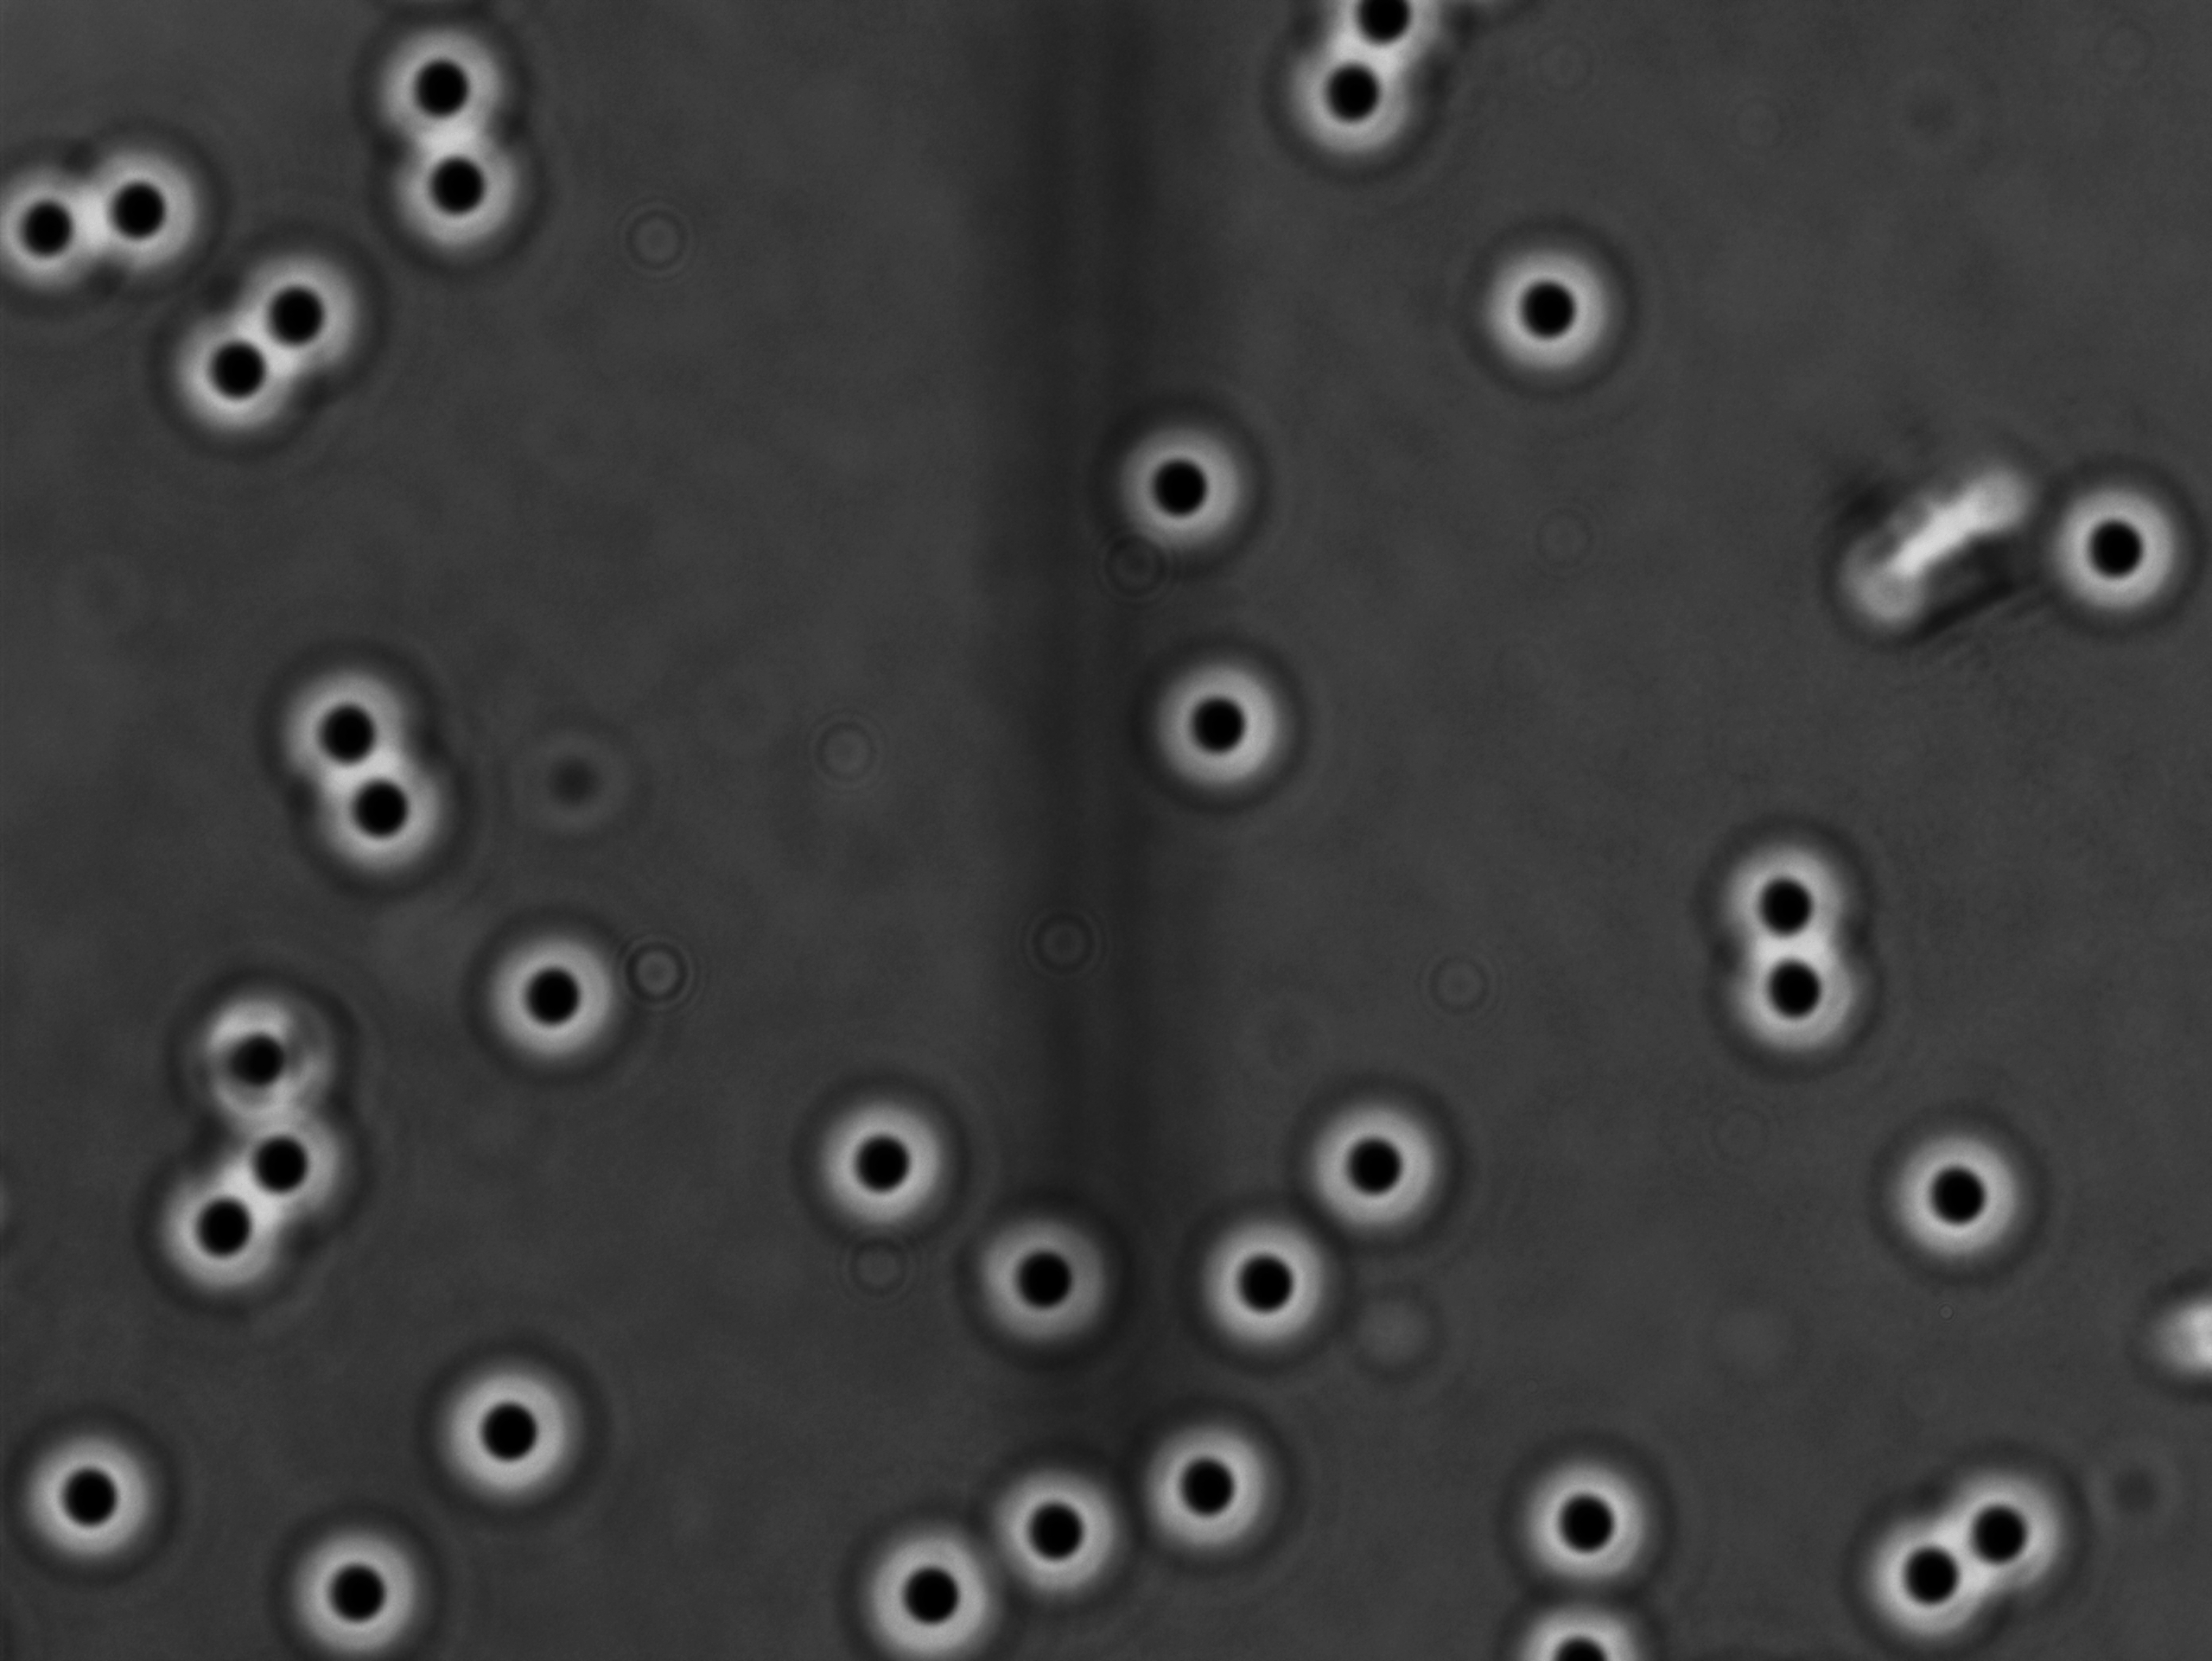depth:-60: (1879, 1099, 2081, 1282), (420, 1343, 616, 1506), (952, 1431, 1129, 1607), (1706, 909, 1889, 1078), (958, 1202, 1132, 1377), (1298, 1070, 1460, 1251), (1493, 1445, 1675, 1607), (1474, 229, 1652, 393), (3, 1418, 180, 1581), (2064, 466, 2212, 654), (799, 1064, 954, 1244), (1701, 813, 1882, 963), (1139, 649, 1303, 813), (1846, 1499, 2011, 1661), (277, 1509, 454, 1661), (1108, 419, 1270, 583), (227, 1075, 382, 1246), (387, 122, 546, 286), (1191, 1200, 1359, 1354), (274, 653, 438, 808), (1254, 31, 1425, 180), (1137, 1398, 1286, 1563), (850, 1514, 1015, 1661), (138, 1164, 304, 1307), (478, 918, 630, 1073), (1949, 1446, 2097, 1605), (82, 115, 222, 281), (312, 750, 473, 893), (162, 314, 312, 459), (237, 237, 387, 382)
